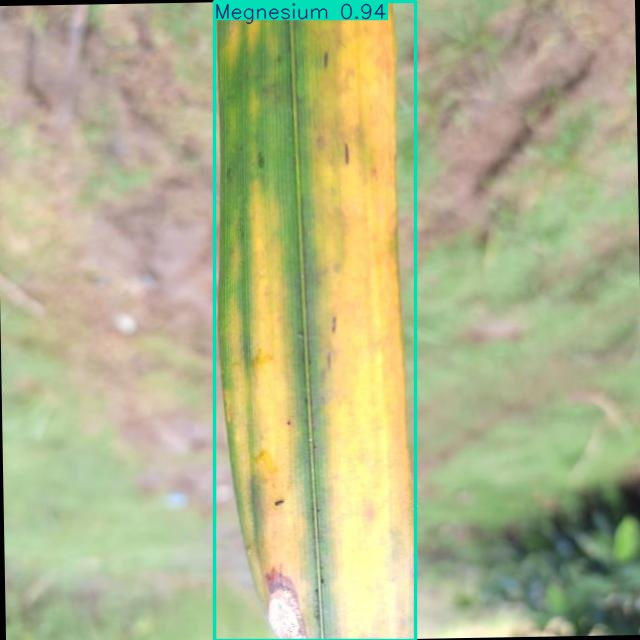Megnesium: (215, 1, 416, 640)
